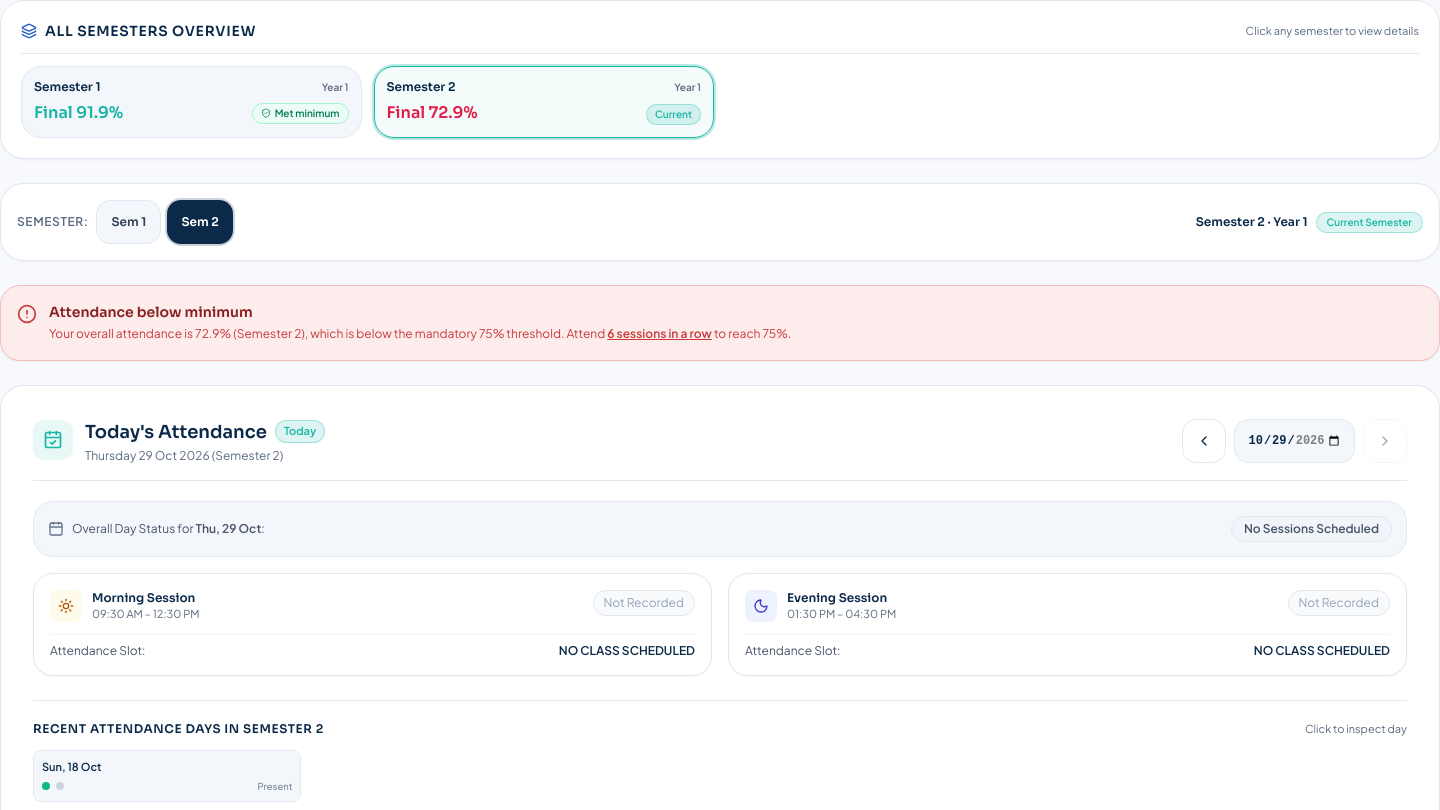
Phase 12D - Semester Attendance & Promotion Automated Test Suite › 3. React Student Portal UI: Current vs Historical Semesters › displays shortage alert ONLY for current semester, and read-only badge for past semester
Check: the heading "Attendance below minimum" is shown, box [49,303,253,321]
Check: the text "6 sessions in a row" is shown, box [607,326,712,341]
# Switch to Semester 1 (Previous Semester)
Click the button "Sem 1": coordinates (129, 222) [96,200,162,244]
(page scrolled)
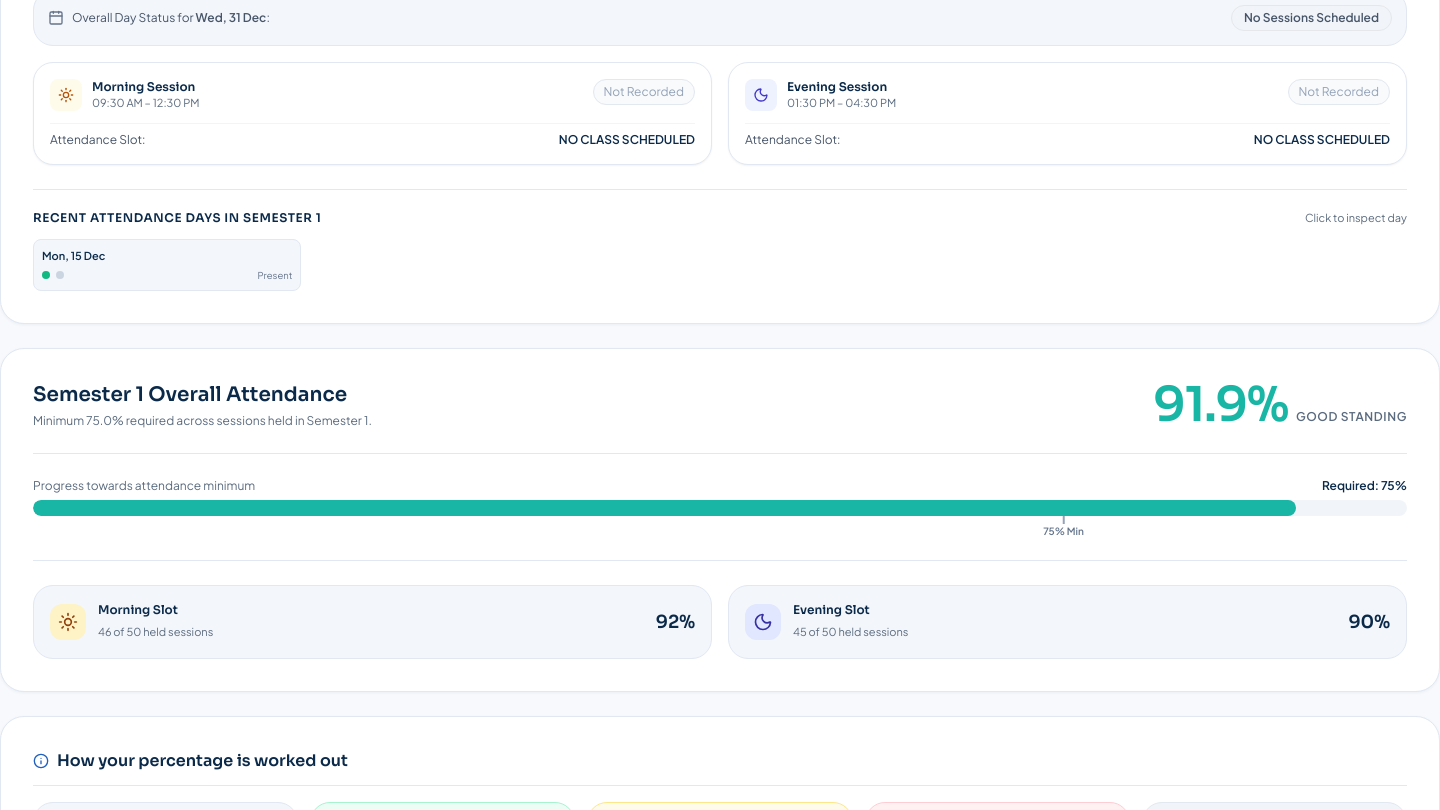
Check: the heading "Attendance below minimum" is gone
Check: the text "91.9%" is shown, box [1153,381,1288,429]
